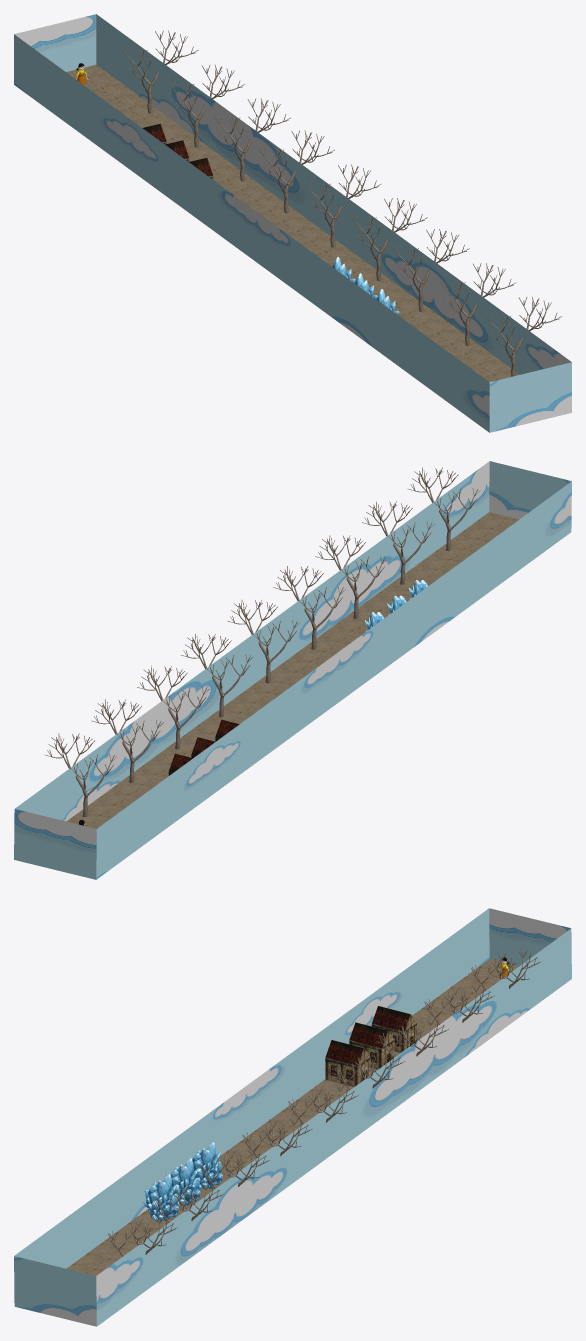
File: WorldSquidGames.glb
The picture shows the model from 3 angles, top to bottom: view 1: azimuth 30°, elevation 25°; view 2: azimuth 150°, elevation 25°; view 3: azimuth 330°, elevation 25°; orthographic projection.
Visible parts, largest first — view 1: Walls, Floor, Tree.008, home.004, diamonds.001; view 2: Walls, Floor, Tree.008, home.004, diamonds.001; view 3: Walls, Floor, Tree.008, home.004, diamonds.001.
Boxes of the visible parts, x1=… form: Walls: x1=14, y1=14, x2=571, y2=432; Floor: x1=66, y1=64, x2=519, y2=382; Tree.008: x1=121, y1=30, x2=561, y2=376; home.004: x1=142, y1=123, x2=213, y2=179; diamonds.001: x1=332, y1=257, x2=399, y2=314; Walls: x1=14, y1=461, x2=571, y2=879; Floor: x1=66, y1=512, x2=519, y2=828; Tree.008: x1=44, y1=467, x2=480, y2=816; home.004: x1=168, y1=719, x2=239, y2=775; diamonds.001: x1=364, y1=580, x2=427, y2=632; Walls: x1=14, y1=908, x2=571, y2=1326; Floor: x1=66, y1=959, x2=519, y2=1275; Tree.008: x1=105, y1=947, x2=541, y2=1256; home.004: x1=325, y1=1006, x2=417, y2=1086; diamonds.001: x1=143, y1=1142, x2=222, y2=1221.
Bounding box in the file's own units: 13.69 × 8.45 × 100.
14 materials, 5 textured.
